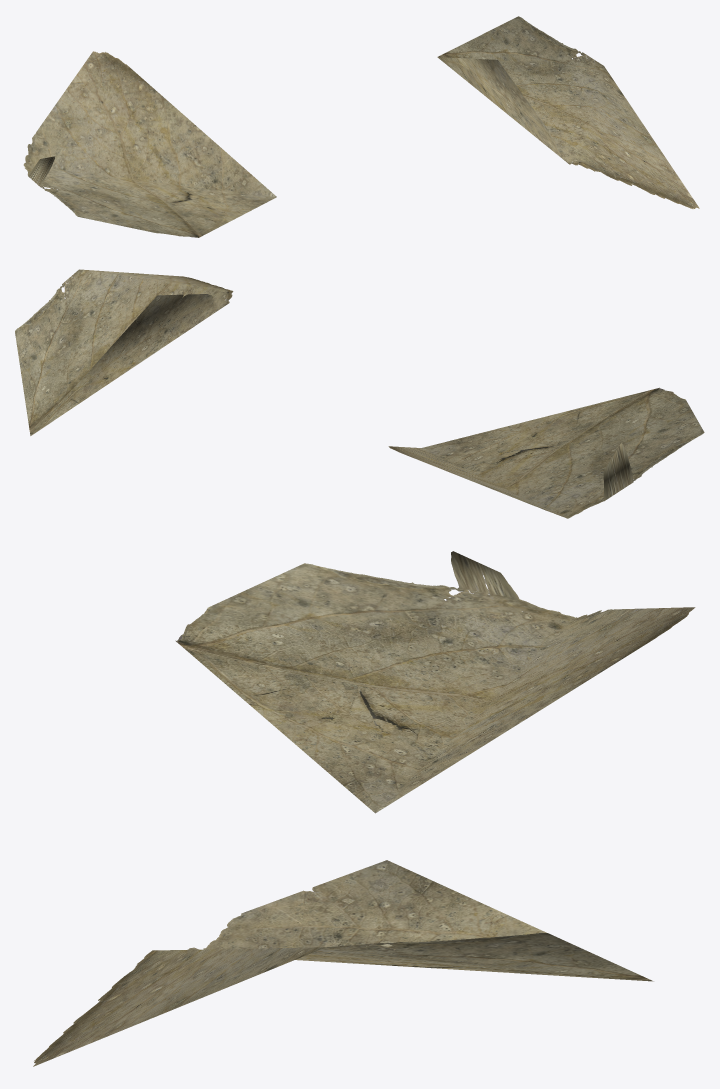
File: leaves_lod2.glb
3 renders of one model, top to bottom at view 1: azimuth 30°, elevation 25°; view 2: azimuth 150°, elevation 25°; view 3: azimuth 270°, elevation 25°, orthographic. The views are drawn at different scales.
Visible parts, largest first — view 1: ENV_Foliage_Leaves_Scatter_LOD2; view 2: ENV_Foliage_Leaves_Scatter_LOD2; view 3: ENV_Foliage_Leaves_Scatter_LOD2.
Boxes of the visible parts, x1=… form: ENV_Foliage_Leaves_Scatter_LOD2: x1=23, y1=16, x2=699, y2=237; ENV_Foliage_Leaves_Scatter_LOD2: x1=15, y1=269, x2=704, y2=518; ENV_Foliage_Leaves_Scatter_LOD2: x1=33, y1=551, x2=695, y2=1066.
Bounding box in the file's own units: 0.1347 × 0.0261 × 0.0953.
1 material, 1 textured.
